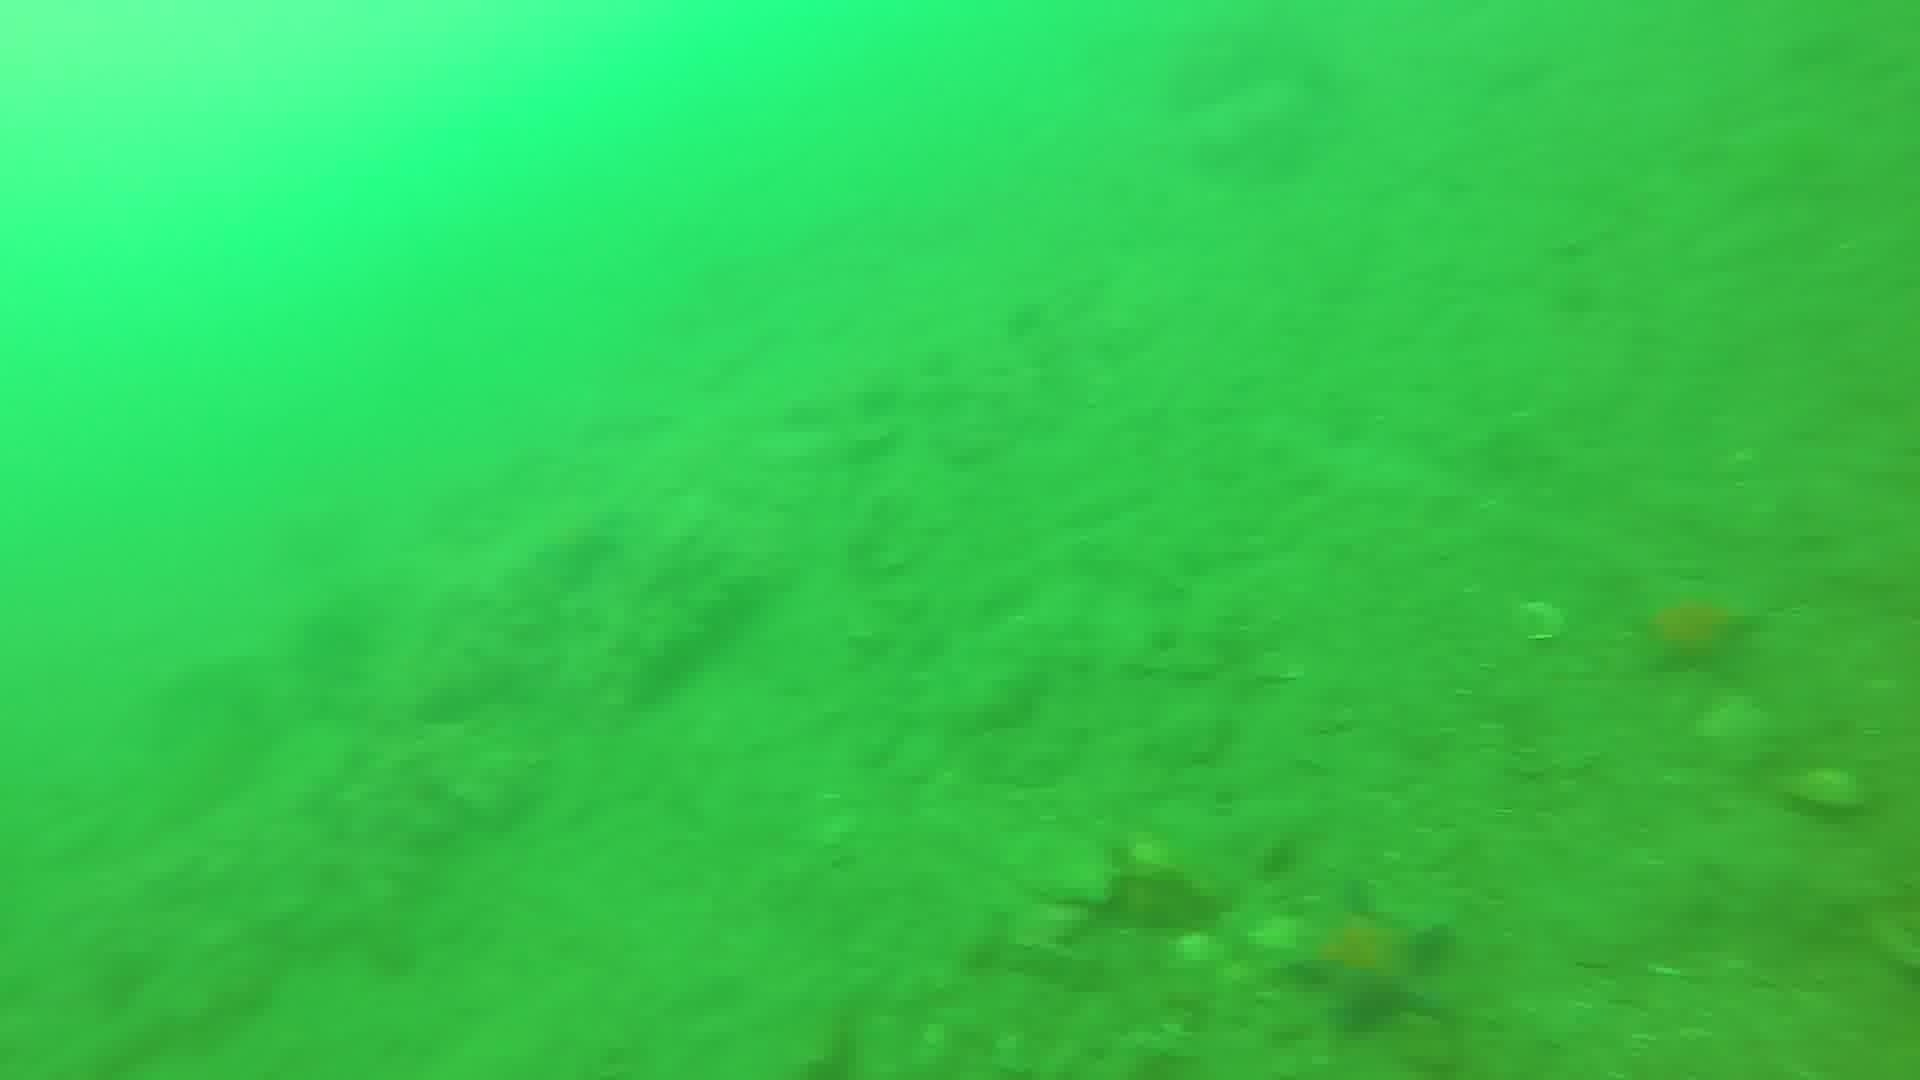starfish: (1279, 878, 1460, 1036), (1625, 574, 1768, 684)
